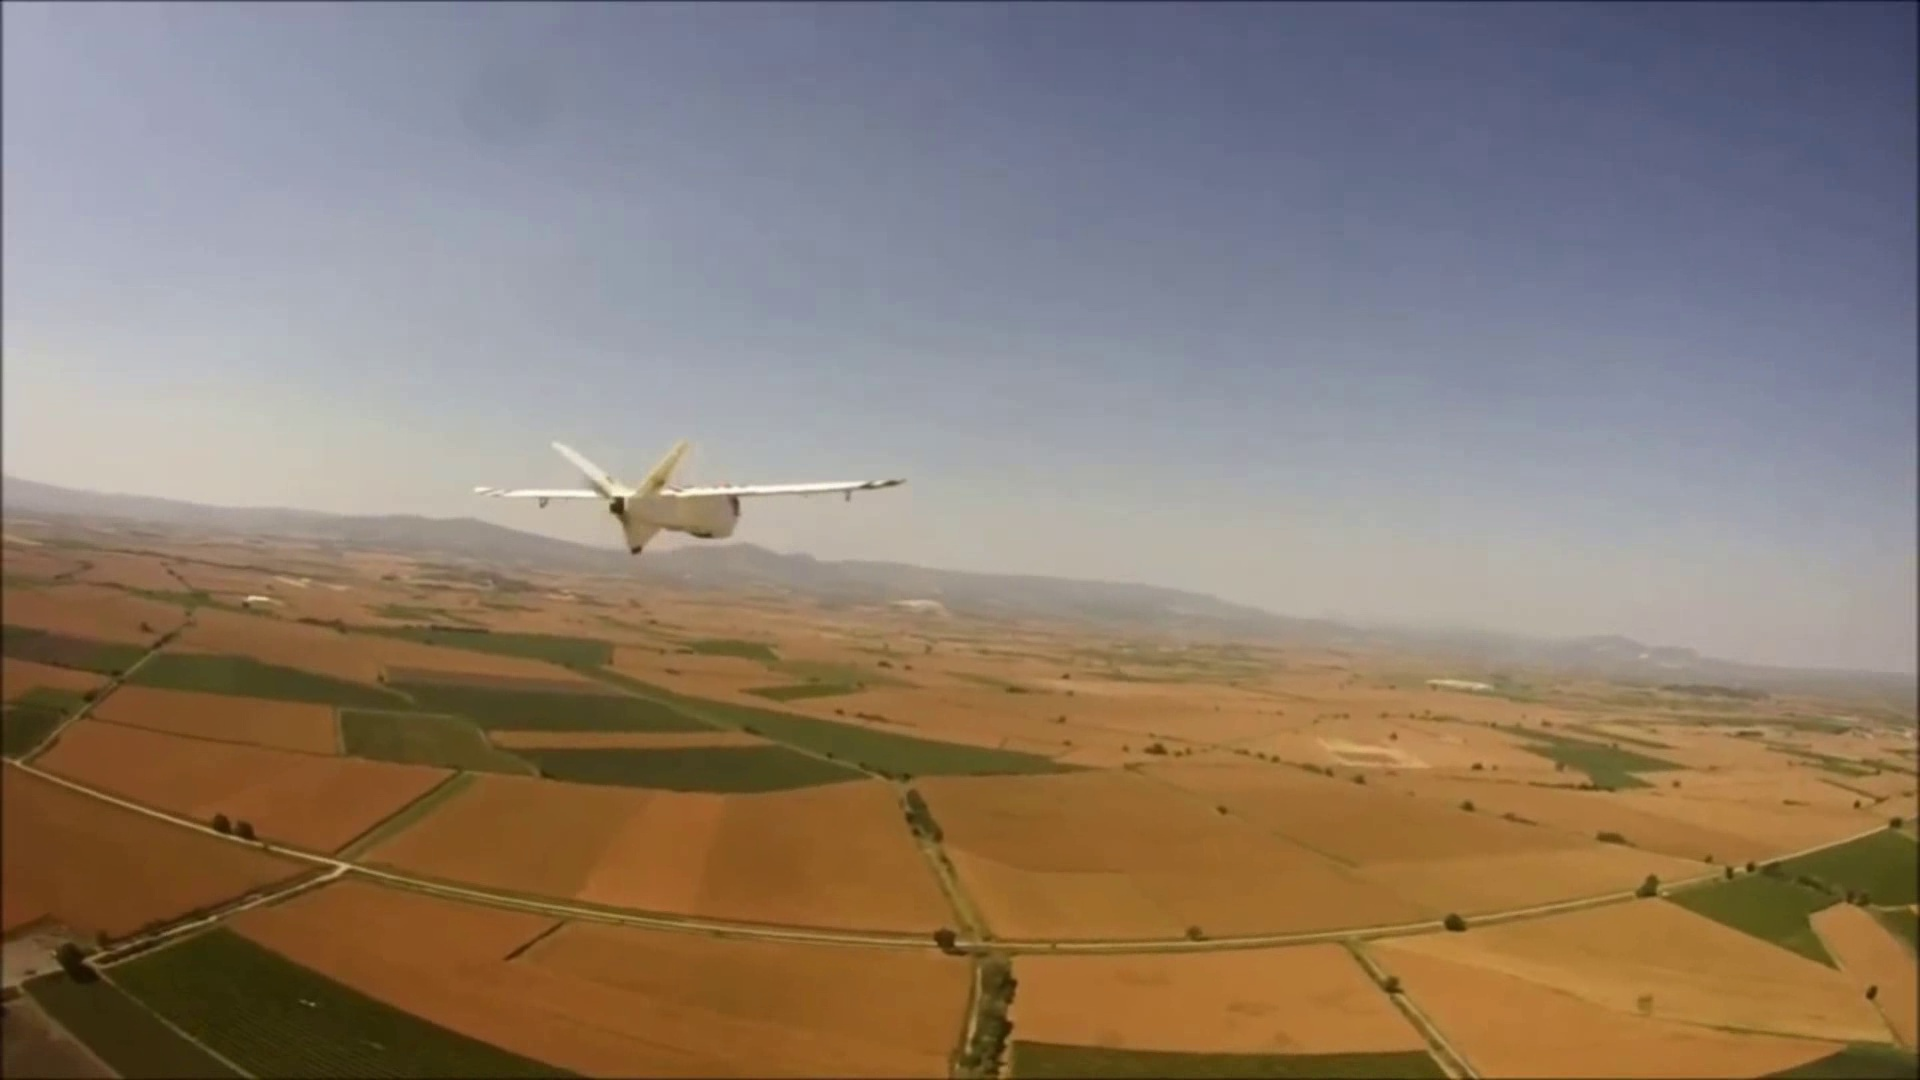airplane: (467, 438, 909, 559)
